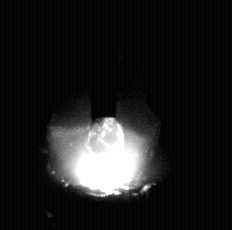arame: (91, 0, 118, 126)
poca: (50, 0, 155, 230)
